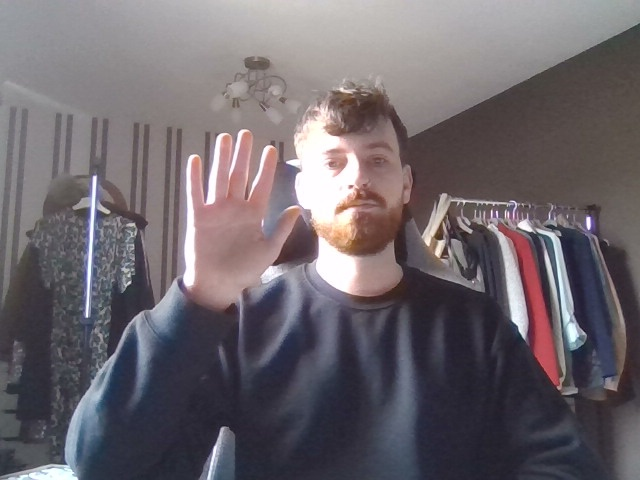Hello: (167, 121, 304, 301)
